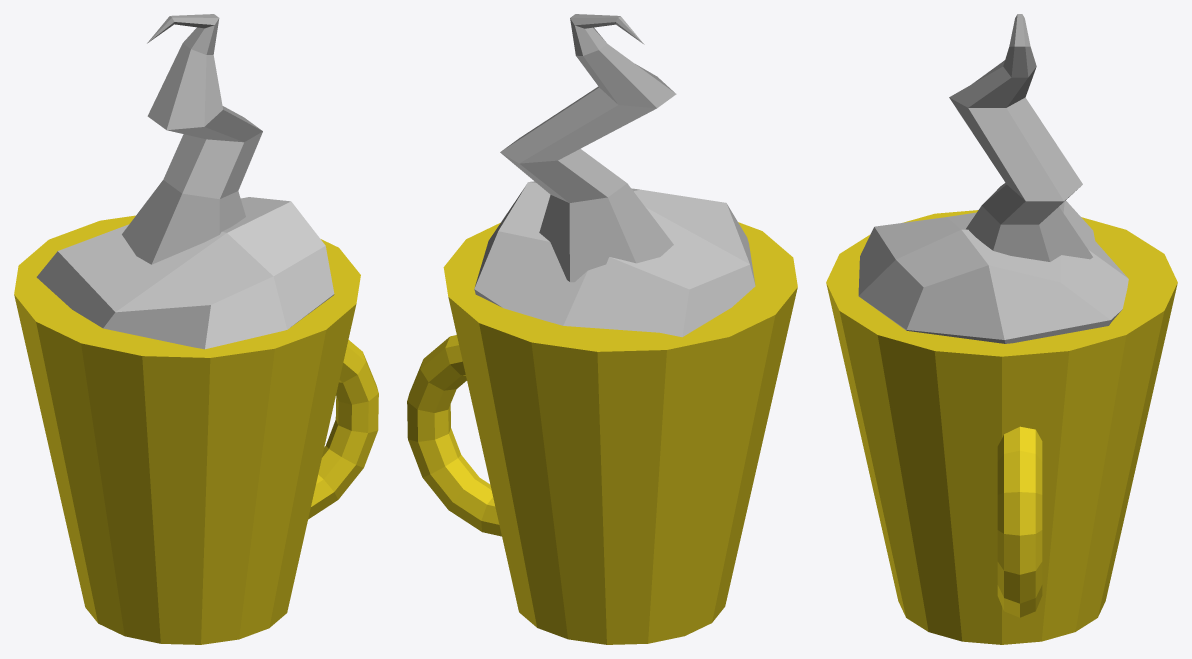
File: NewCofee.fbx
The picture shows the model from 3 angles, left to right: view 1: azimuth 30°, elevation 25°; view 2: azimuth 150°, elevation 25°; view 3: azimuth 270°, elevation 25°; orthographic projection. The views are drawn at different scales.
Parts seen in each view (by area): view 1: Cylinder.051; view 2: Cylinder.051; view 3: Cylinder.051.
Part boxes in pixels (box(x1,y1,x2,y2)): Cylinder.051: box(14, 14, 378, 644); Cylinder.051: box(407, 14, 797, 644); Cylinder.051: box(826, 14, 1177, 644).
Size of the model in its own units: 231 by 366 by 200.
